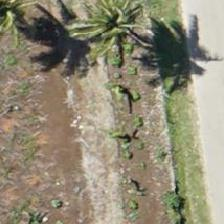coconut_tree: (56, 0, 146, 68)
